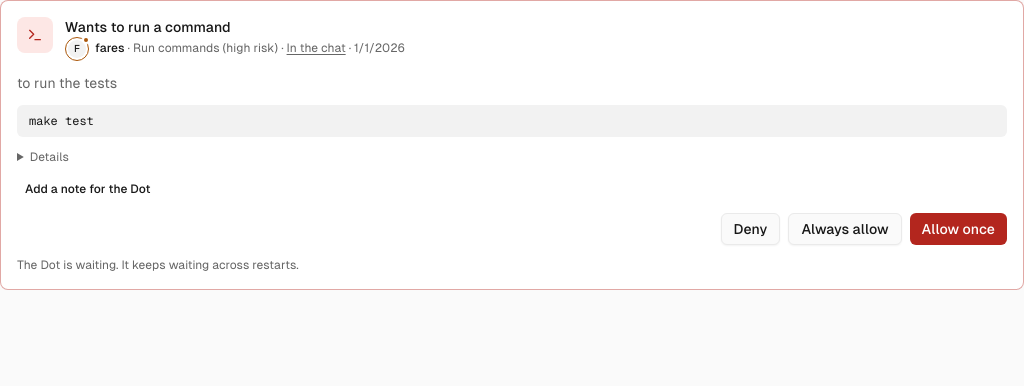
it: the approval card › shows why an answer was not recorded, and lets the person answer again
Click the button "Deny": (750, 229) [721,213,780,245]
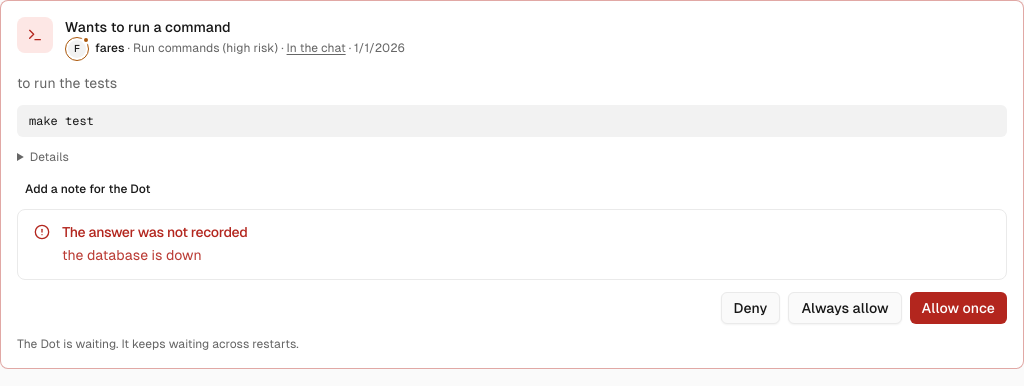
Check: the message shows "the database is down", box [62,247,202,263]
Click the button "Deny": (750, 308) [721,292,780,324]
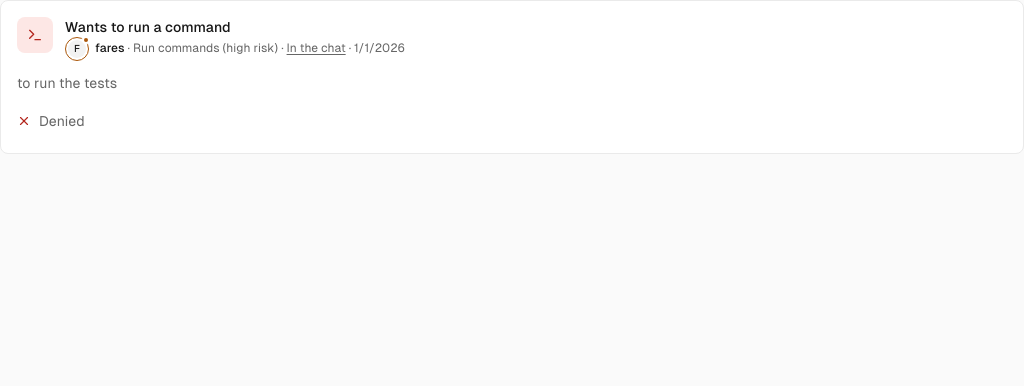
Check: the message reads "Denied", box [39,113,85,129]
